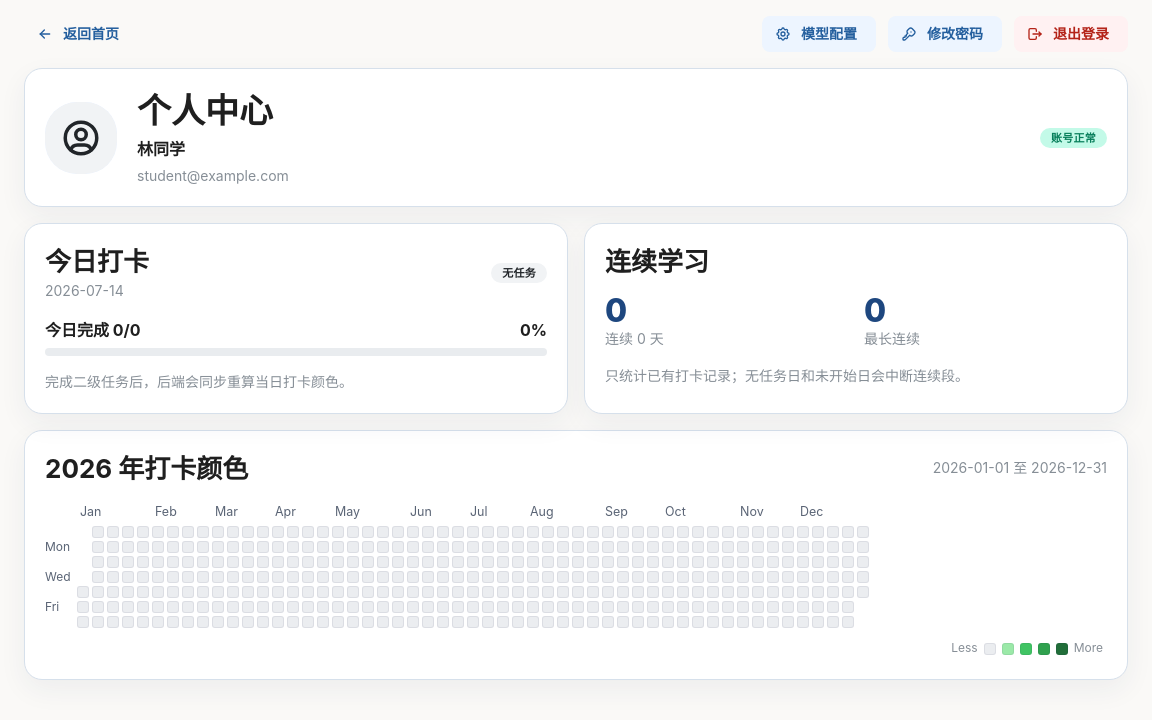
Test case: ProfilePage › keeps the session when the current password is wrong
Click the button "修改密码": (945, 34) [888, 16, 1002, 52]
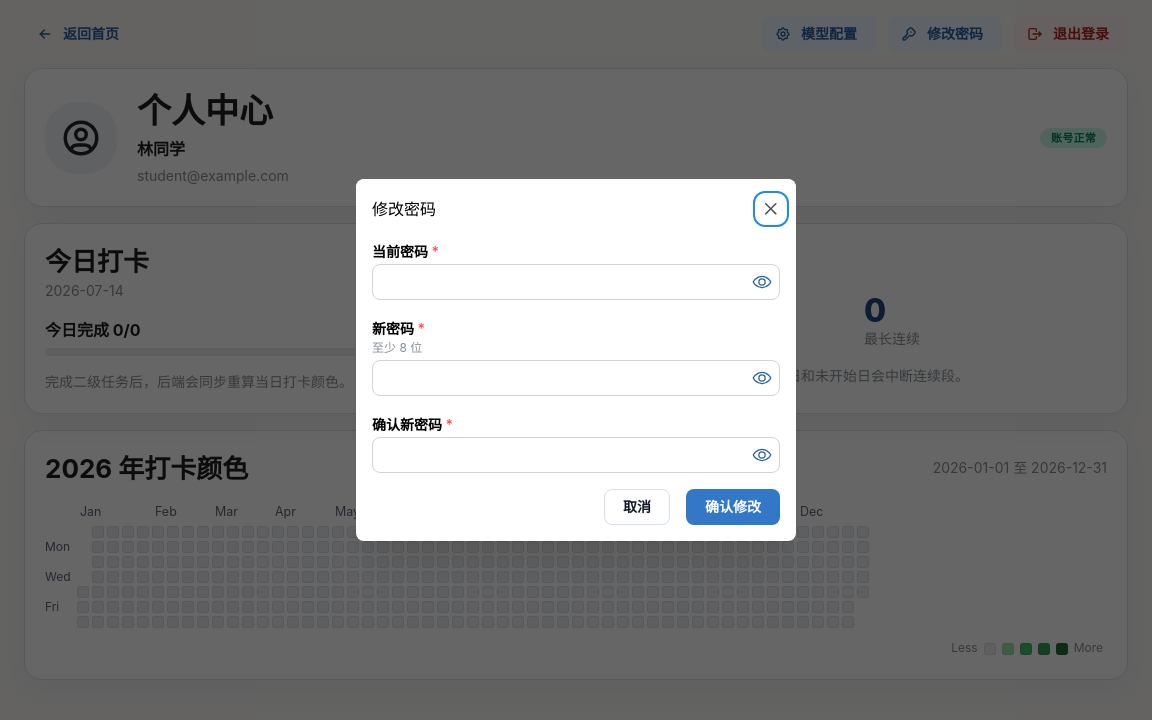
Now the dialog "修改密码" is shown, box [356, 179, 796, 541]
In the password field labelled "当前密码 *": (576, 282) [373, 265, 779, 299], type "wrong-password"
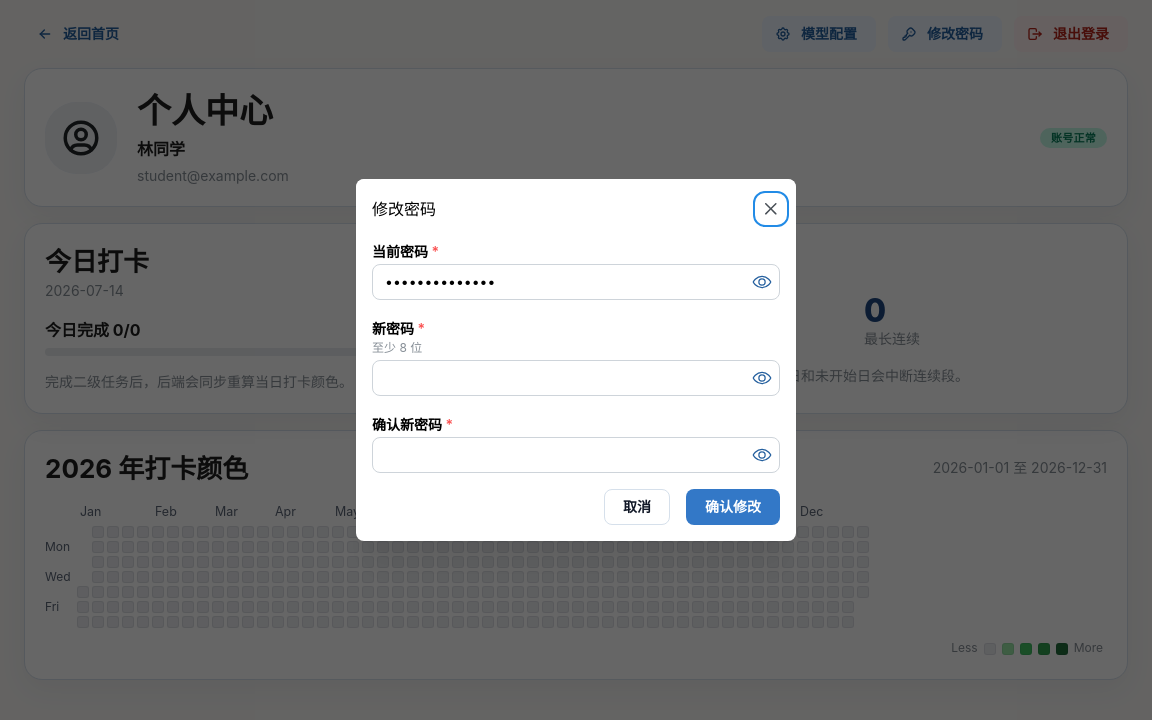
In the password field labelled "新密码 *": (576, 378) [373, 361, 779, 395], type "new-password456"
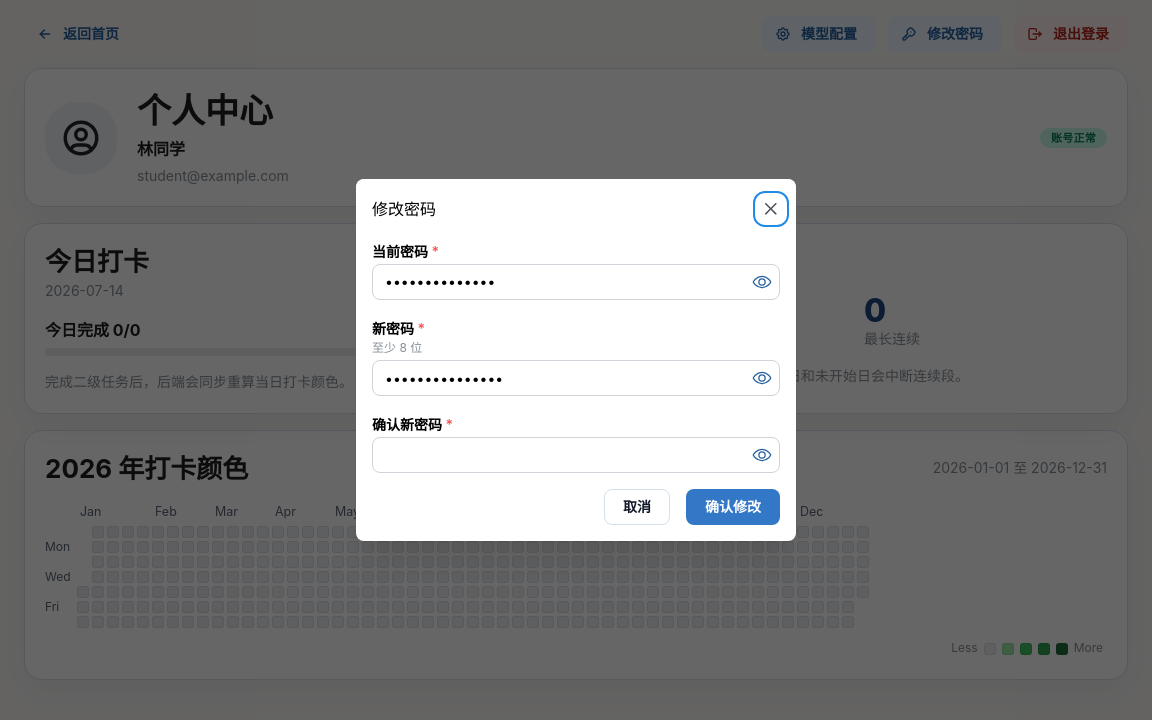
In the password field labelled "确认新密码 *": (576, 455) [373, 438, 779, 472], type "new-password456"
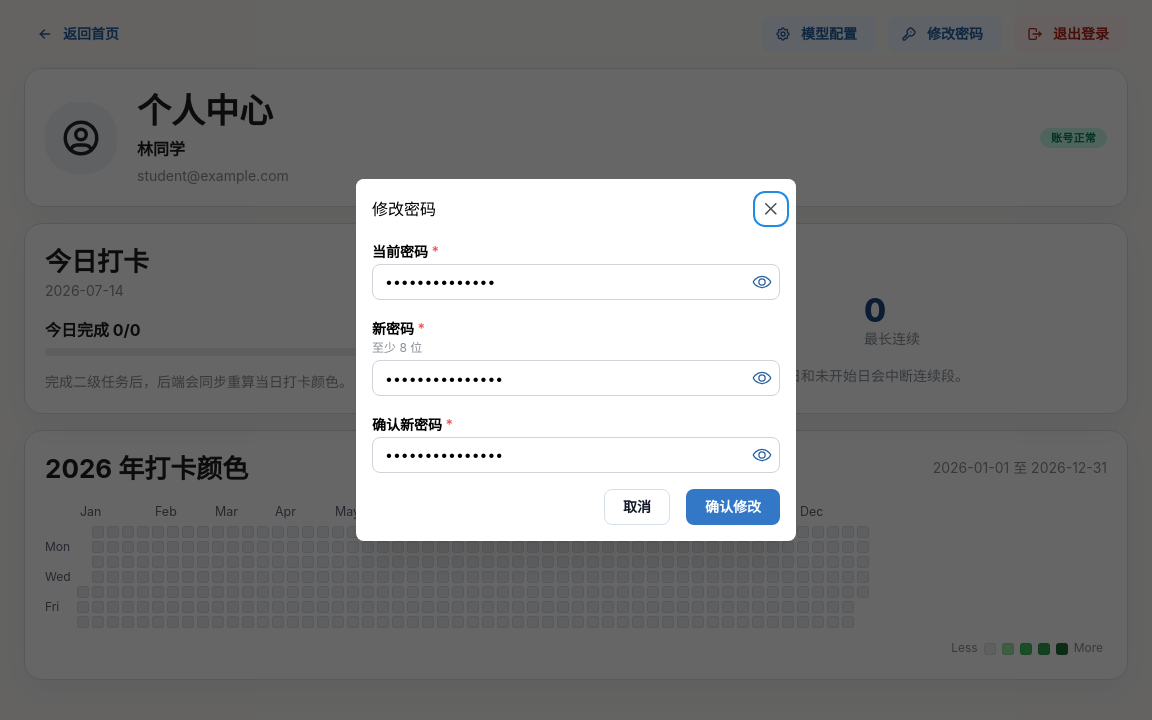
Click the button "确认修改": (733, 507) [686, 489, 780, 525]
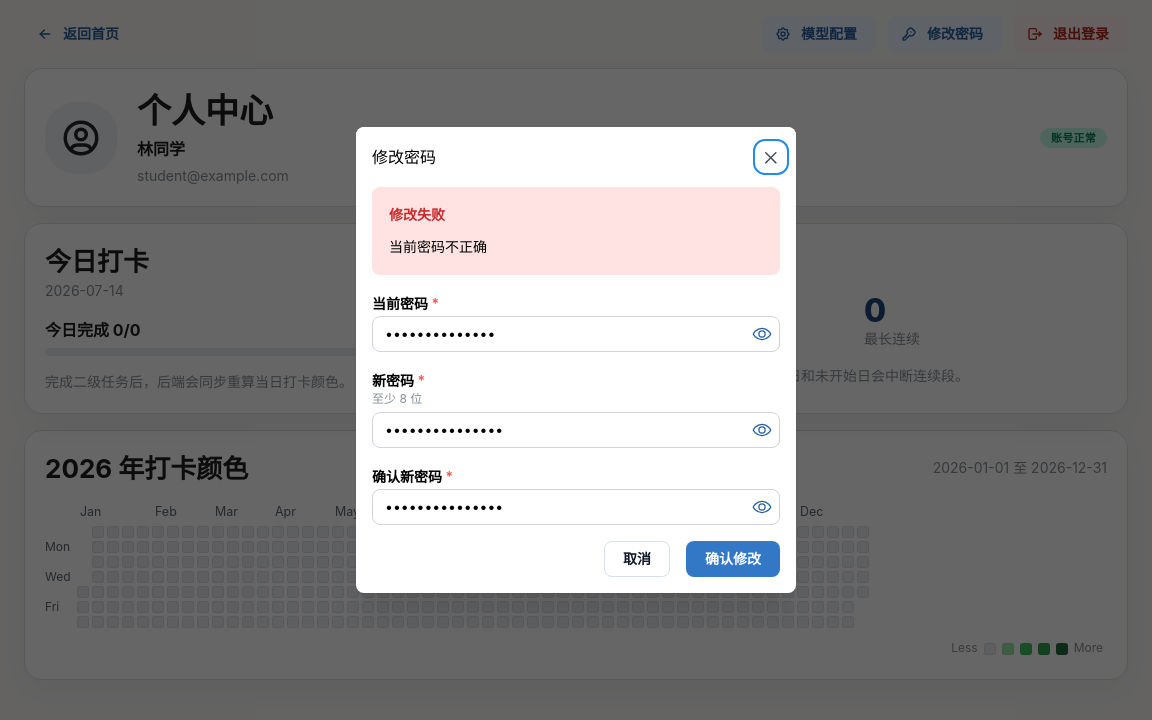
Now the text "当前密码不正确" is shown, box [389, 238, 487, 255]
